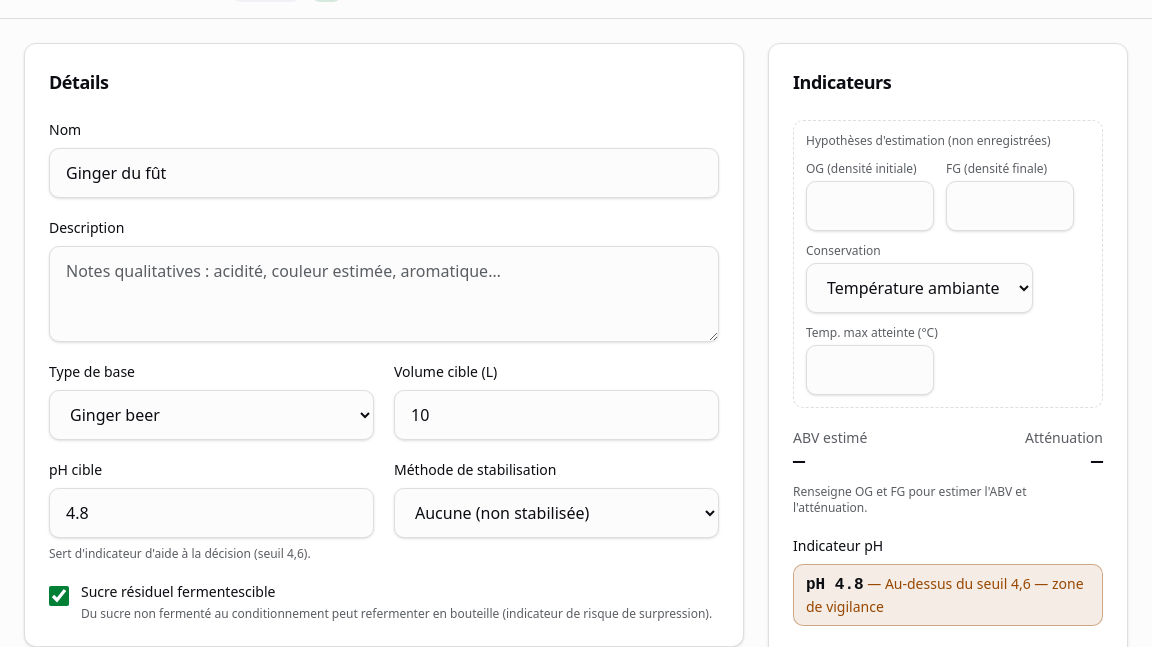
Test case: éditeur ALT — sauvegarde › enregistre les détails ALT via PATCH puis confirme
Replace the text in the number field labelled "pH cible" with "4.2": (212, 513) 49,488 -> 374,538
(page scrolled)
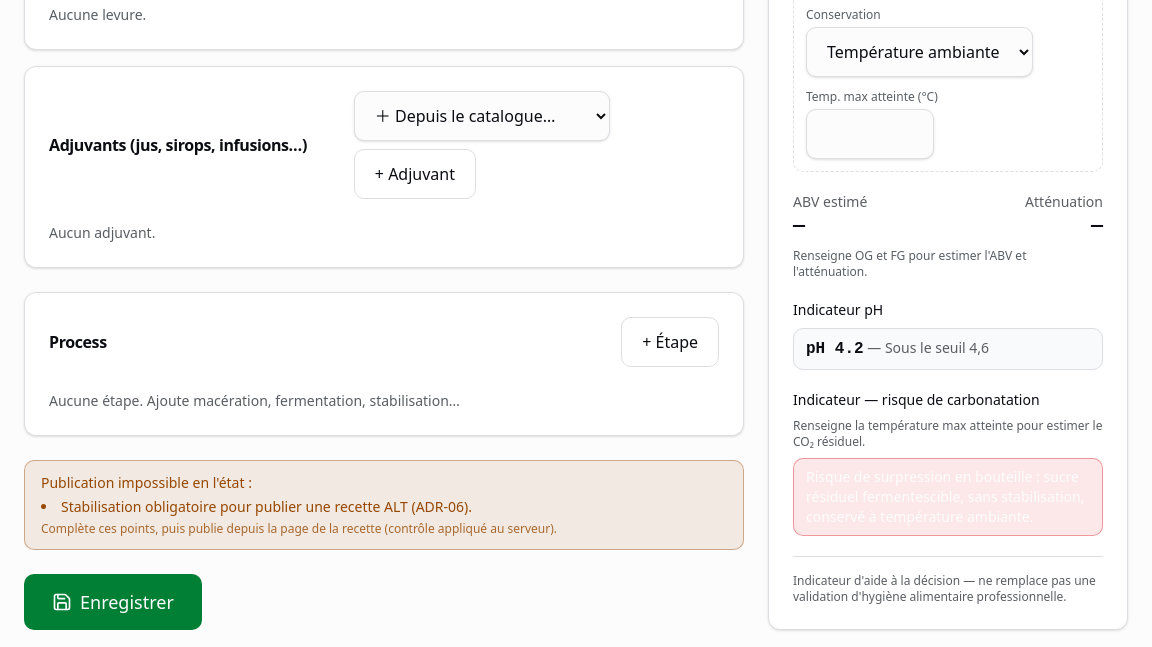
Click the button "Enregistrer": (113, 602) 24,574 -> 202,630
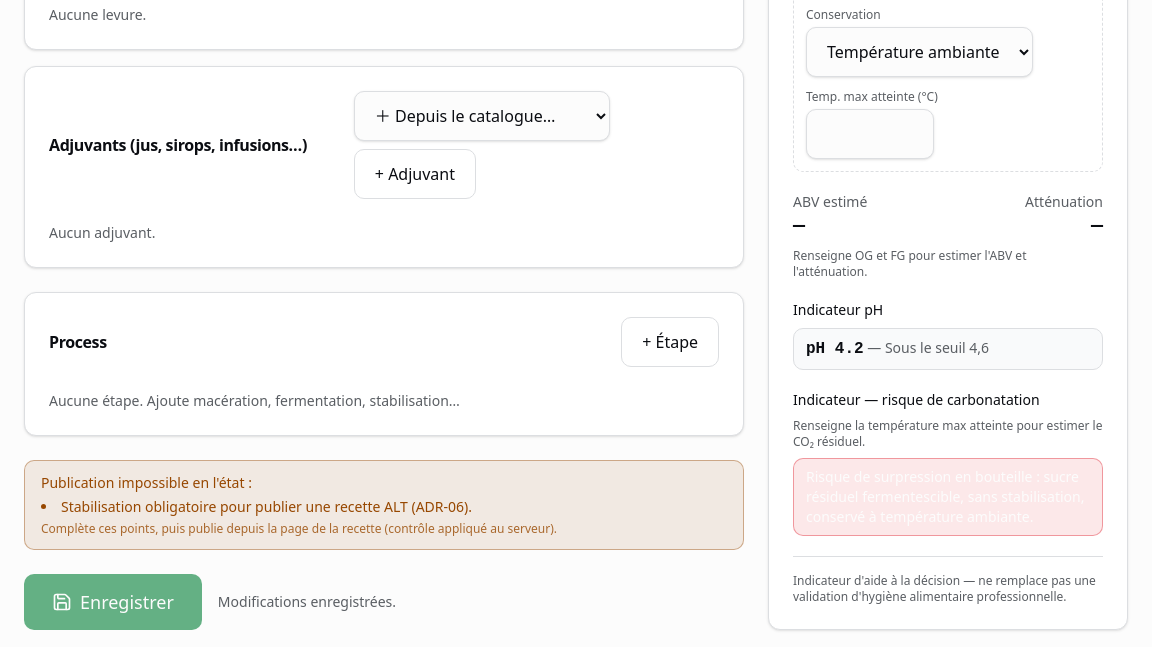
Check: the text "Modifications enregistrées." is shown, box 218,592 -> 396,612
